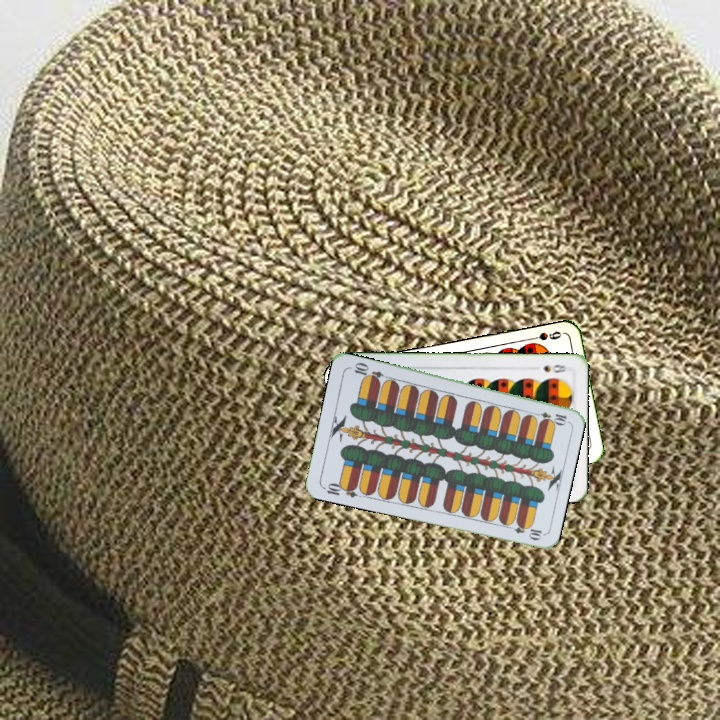E10: (319, 479, 360, 500), (529, 408, 569, 426)
S8: (539, 361, 572, 376)
S9: (524, 327, 564, 343)
